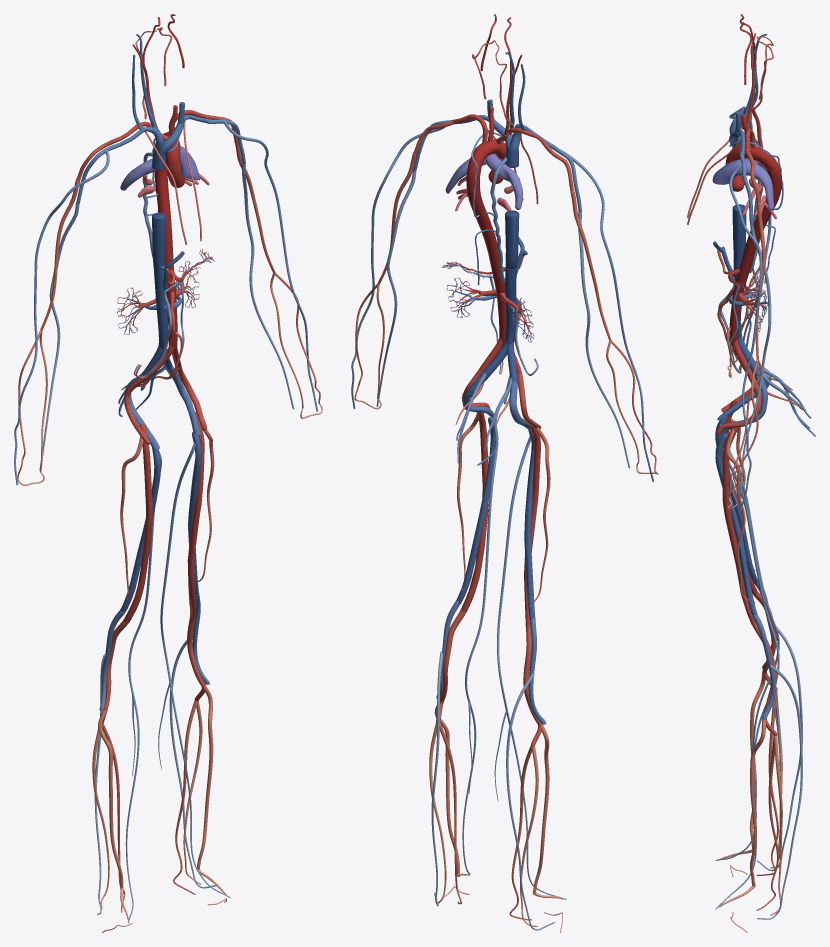
Rendered from vessels.glb.
3 views of the same model, side by side, from view 1: azimuth 30°, elevation 25°; view 2: azimuth 150°, elevation 25°; view 3: azimuth 270°, elevation 25° (orthographic). The views are drawn at different scales.
Visible parts, largest first — view 1: great-saphenous-veins, femoral-arteries, cephalic-veins, femoral-veins, basilic-veins, anterior-tibial-arteries, inferior-vena-cava, descending-aorta, small-saphenous-veins, posterior-tibial-arteries, fibular-arteries, brachial-arteries (+10 smaller); view 2: great-saphenous-veins, femoral-veins, femoral-arteries, cephalic-veins, descending-aorta, basilic-veins, small-saphenous-veins, inferior-vena-cava, anterior-tibial-arteries, popliteal-arteries, posterior-tibial-arteries, deep-femoral-arteries (+11 smaller); view 3: great-saphenous-veins, femoral-veins, descending-aorta, small-saphenous-veins, cephalic-veins, femoral-arteries, anterior-tibial-arteries, basilic-veins, posterior-tibial-arteries, fibular-arteries, inferior-vena-cava, deep-femoral-arteries (+22 smaller).
Part boxes in pixels (box(x1,y1,x2,y2)): great-saphenous-veins: box(125, 442, 230, 923); femoral-arteries: box(123, 411, 204, 622); cephalic-veins: box(14, 120, 318, 485); femoral-veins: box(120, 432, 201, 612); basilic-veins: box(39, 163, 294, 470); anterior-tibial-arteries: box(98, 686, 213, 888); inferior-vena-cava: box(152, 212, 167, 350); descending-aorta: box(154, 168, 177, 352); small-saphenous-veins: box(94, 632, 218, 914); posterior-tibial-arteries: box(102, 700, 197, 912); fibular-arteries: box(92, 701, 202, 909); brachial-arteries: box(40, 141, 275, 330); great-saphenous-veins: box(462, 429, 566, 899); femoral-veins: box(457, 416, 535, 620); femoral-arteries: box(460, 412, 540, 627); cephalic-veins: box(351, 127, 653, 481); descending-aorta: box(466, 169, 506, 344); basilic-veins: box(376, 171, 630, 468); small-saphenous-veins: box(431, 651, 555, 930); inferior-vena-cava: box(505, 210, 519, 344); anterior-tibial-arteries: box(434, 705, 549, 893); popliteal-arteries: box(436, 610, 541, 746); posterior-tibial-arteries: box(439, 722, 532, 920); deep-femoral-arteries: box(457, 413, 550, 606); great-saphenous-veins: box(715, 421, 780, 909); femoral-veins: box(715, 416, 758, 615); descending-aorta: box(729, 166, 782, 344); small-saphenous-veins: box(757, 626, 802, 919); cephalic-veins: box(729, 107, 762, 513); femoral-arteries: box(722, 398, 757, 624); anterior-tibial-arteries: box(749, 672, 765, 886); basilic-veins: box(739, 215, 771, 493); posterior-tibial-arteries: box(756, 690, 778, 910); fibular-arteries: box(770, 690, 782, 915); inferior-vena-cava: box(732, 204, 746, 339); deep-femoral-arteries: box(725, 418, 755, 602).
Bounding box in the file's own units: 2.25 × 6.4 × 0.8434.
